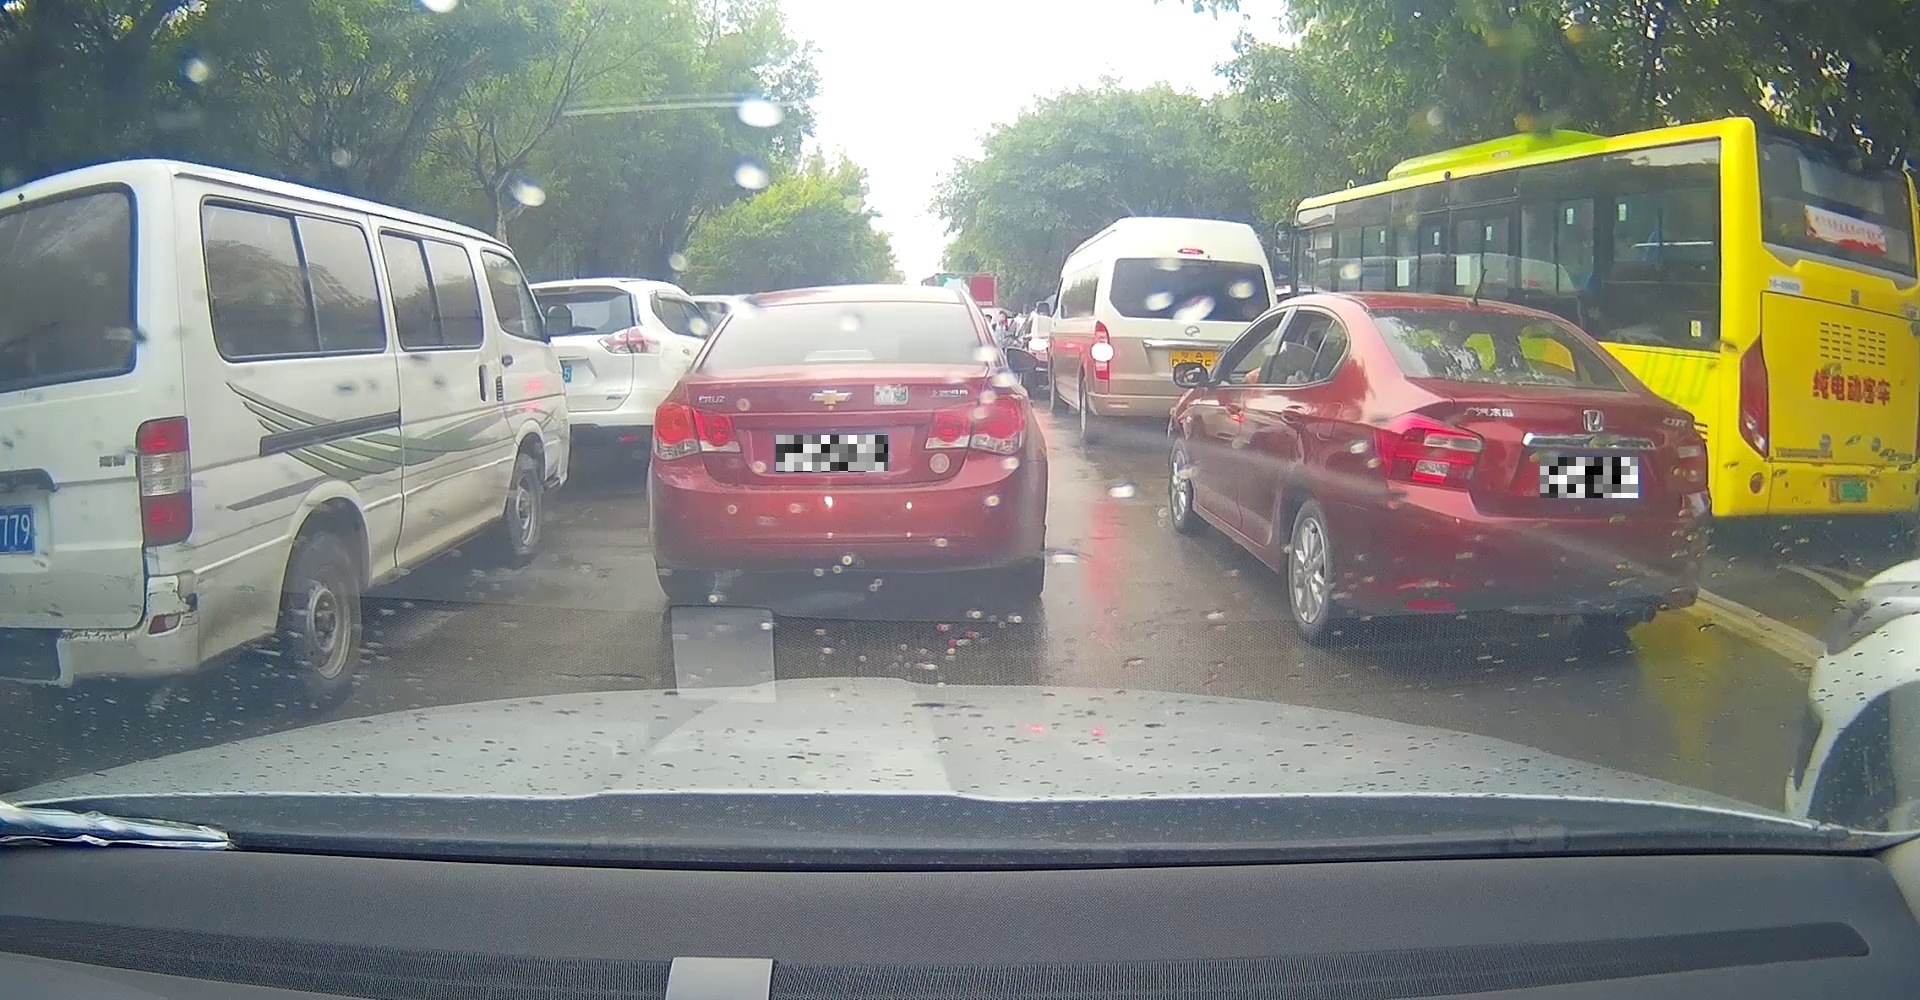L_light: (1377, 412, 1483, 485), (653, 404, 740, 457)
R_light: (926, 395, 1029, 452), (1669, 431, 1707, 491)
T_light: (808, 350, 872, 360), (1454, 311, 1502, 319)
day-no: (648, 283, 1048, 602), (1351, 299, 1713, 646)
plate_1: (776, 435, 888, 472)
plate_2: (1540, 457, 1638, 497)
